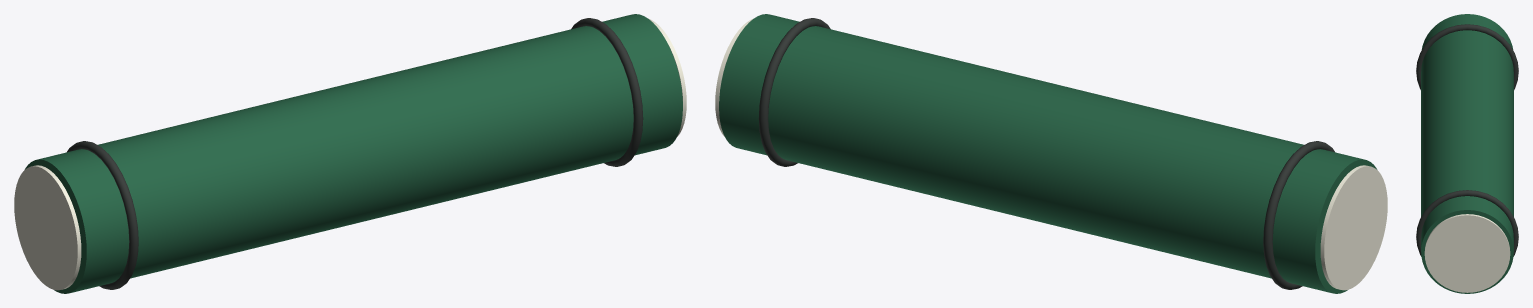
Rendered from cricket-ground-and-pavilion-rolled-pitch-tarpaulin-ce3f75ba__31338.glb.
3 renders of one model, left to right at view 1: azimuth 30°, elevation 25°; view 2: azimuth 150°, elevation 25°; view 3: azimuth 270°, elevation 25°, orthographic. The views are drawn at different scales.
Parts seen in each view (by area): view 1: rolled-pitch-tarpaulin; view 2: rolled-pitch-tarpaulin; view 3: rolled-pitch-tarpaulin.
Part boxes in pixels (left/top/right/bottom): rolled-pitch-tarpaulin: left=14, top=14, right=686, bottom=293; rolled-pitch-tarpaulin: left=715, top=14, right=1387, bottom=293; rolled-pitch-tarpaulin: left=1416, top=14, right=1518, bottom=293.
Bounding box in the file's own units: 1.33 × 0.288 × 0.288.
